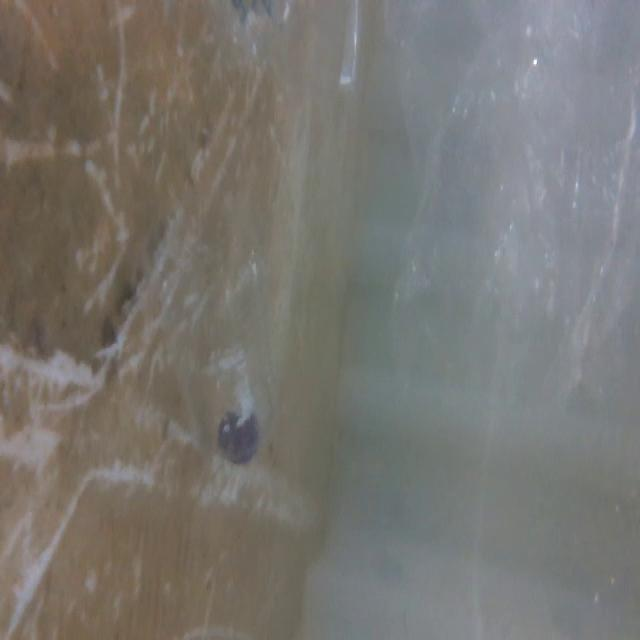plastic bags: (395, 0, 640, 444), (200, 0, 368, 110)
plastic bottle: (144, 198, 284, 472)
